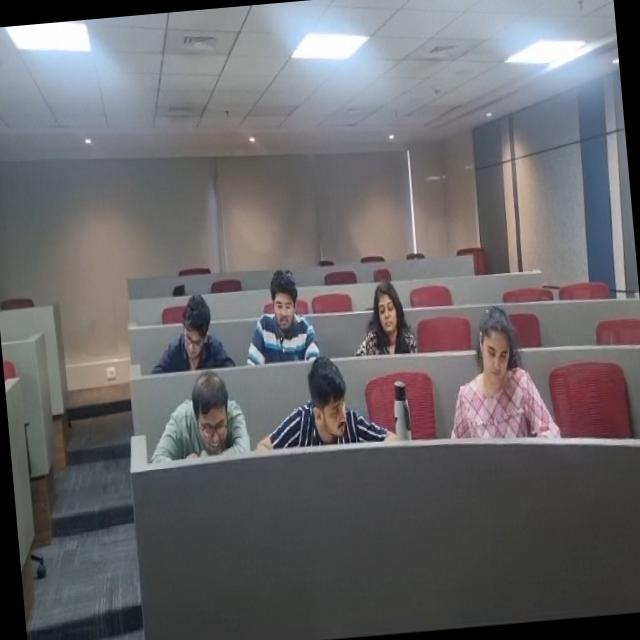cheating: (170, 366, 252, 470), (296, 358, 367, 454)
non-cheating: (462, 302, 526, 401), (252, 258, 314, 354), (158, 283, 224, 365), (362, 270, 414, 362)
